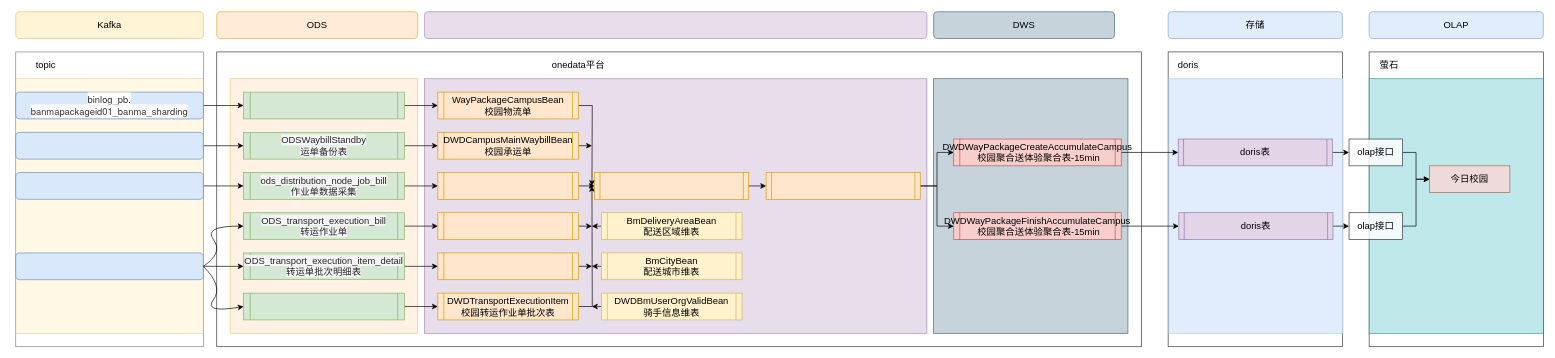
The diagram is 1555 pixels wide and 358 high, and some of its shapes have lost their labels. Each missing label, with the box of its shape:
binlog_pb. banmanodecenter_east_transportcenter_shard: (15, 252, 203, 280)
binlog_pb. banmanodecenter_south_nodecenter_shard: (15, 172, 203, 199)
binlog_pb_standby. banmawaybillid01_banma_sharding: (15, 132, 203, 159)
DWD: (424, 11, 927, 39)
DWDTransportExecutionBill 校园转运单: (437, 212, 579, 240)
DWDTransportExecutionItemDetail 校园转运单批次明细表: (437, 252, 579, 280)
DWDWayPackageCommonCampus 校园聚合送公共基础表: (594, 172, 749, 199)
DWDWayPackageLabelCampus 校园聚合送公共标签表: (765, 172, 920, 199)
JobbillCampusBean 校园分餐点作业单: (437, 172, 579, 199)
ODS_bm_package 包裹流: (243, 91, 404, 119)
ODS_transport_execution_item 转运单批次表: (243, 292, 404, 320)
